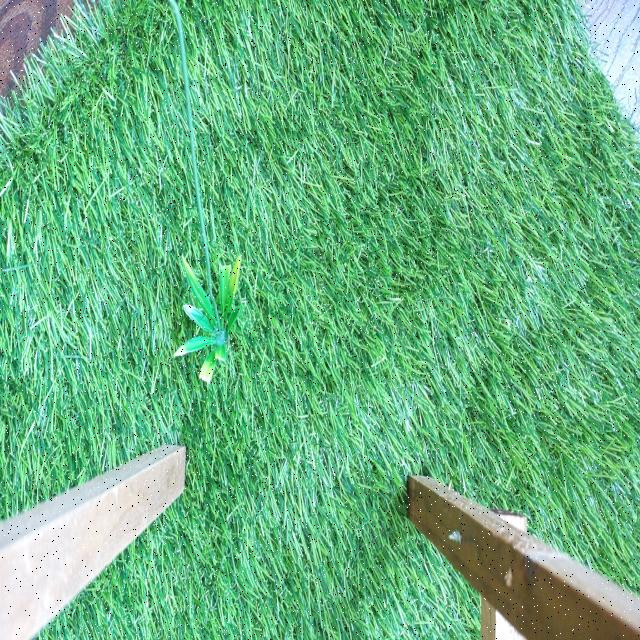base: (176, 253, 242, 387)
